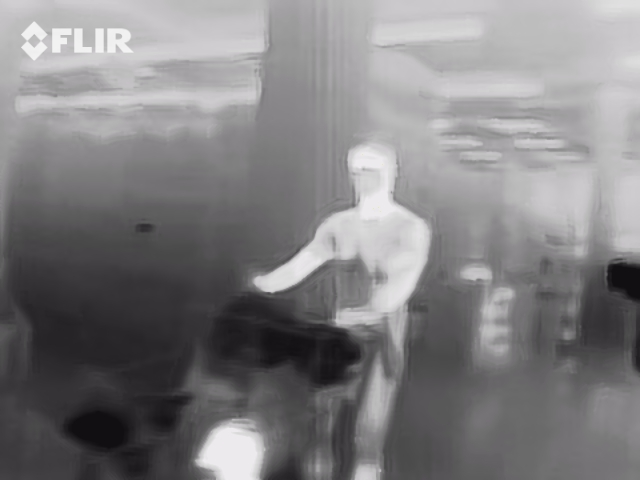head: (347, 144, 396, 197)
